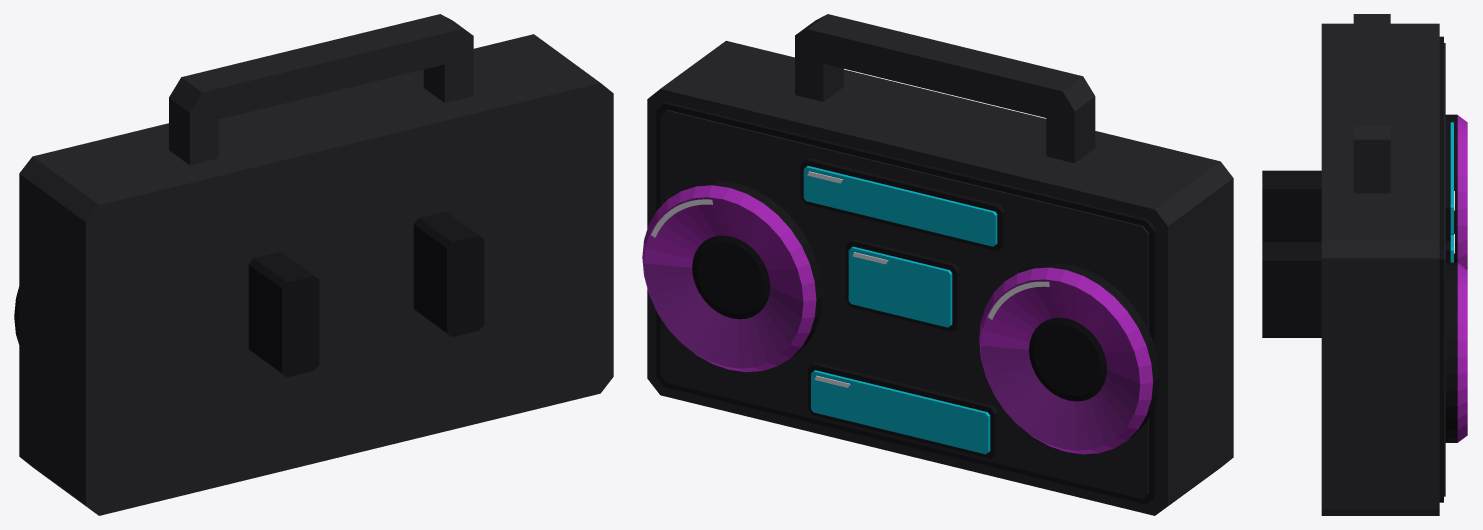
Rendered from boombox.glb.
3 renders of one model, left to right at view 1: azimuth 30°, elevation 25°; view 2: azimuth 150°, elevation 25°; view 3: azimuth 270°, elevation 25°, orthographic. The views are drawn at different scales.
Parts seen in each view (by area): view 1: Boombox_Body, Boombox_Handle, Boombox_BackMount_L, Boombox_BackMount_R; view 2: Boombox_Body, Boombox_Face, Boombox_Speaker_R, Boombox_Speaker_L, Boombox_Handle, Boombox_FrontBaffle, Boombox_CyanPanel_Lower, Boombox_CyanPanel_Upper, Boombox_CyanPanel_Center, Boombox_PanelFrame_Upper, Boombox_PanelFrame_Lower, Boombox_PanelFrame_Center; view 3: Boombox_Body, Boombox_Handle, Boombox_BackMount_R, Boombox_BackMount_L, Boombox_Speaker_R, Boombox_FrontBaffle, Boombox_Speaker_L, Boombox_Face, Boombox_PanelFrame_Upper, Boombox_CyanPanel_Upper.
Boxes of the visible parts, x1=… form: Boombox_Body: x1=19, y1=34, x2=613, y2=515; Boombox_Handle: x1=169, y1=14, x2=473, y2=165; Boombox_BackMount_L: x1=248, y1=251, x2=319, y2=377; Boombox_BackMount_R: x1=413, y1=211, x2=484, y2=336; Boombox_Body: x1=647, y1=40, x2=1233, y2=515; Boombox_Face: x1=660, y1=110, x2=1148, y2=498; Boombox_Speaker_R: x1=642, y1=180, x2=822, y2=372; Boombox_Speaker_L: x1=979, y1=262, x2=1159, y2=454; Boombox_Handle: x1=795, y1=14, x2=1095, y2=163; Boombox_FrontBaffle: x1=656, y1=102, x2=1156, y2=504; Boombox_CyanPanel_Lower: x1=811, y1=370, x2=990, y2=454; Boombox_CyanPanel_Upper: x1=803, y1=166, x2=997, y2=246; Boombox_CyanPanel_Center: x1=848, y1=246, x2=952, y2=327; Boombox_PanelFrame_Upper: x1=800, y1=158, x2=1005, y2=250; Boombox_PanelFrame_Lower: x1=808, y1=362, x2=997, y2=458; Boombox_PanelFrame_Center: x1=845, y1=239, x2=959, y2=331; Boombox_Body: x1=1321, y1=23, x2=1439, y2=515; Boombox_Handle: x1=1353, y1=14, x2=1390, y2=193; Boombox_BackMount_R: x1=1262, y1=242, x2=1321, y2=337; Boombox_BackMount_L: x1=1262, y1=170, x2=1321, y2=241; Boombox_Speaker_R: x1=1445, y1=262, x2=1467, y2=442; Boombox_FrontBaffle: x1=1439, y1=36, x2=1443, y2=502; Boombox_Speaker_L: x1=1445, y1=114, x2=1467, y2=269; Boombox_Face: x1=1444, y1=43, x2=1445, y2=496; Boombox_PanelFrame_Upper: x1=1445, y1=116, x2=1450, y2=240; Boombox_CyanPanel_Upper: x1=1450, y1=122, x2=1453, y2=234.
Size of the model in its own units: 0.64 by 0.441 by 0.244.
